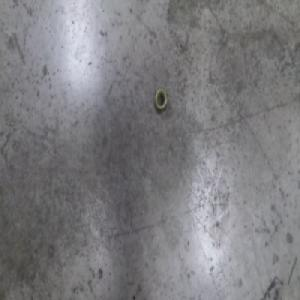Nut: (153, 86, 168, 113)
